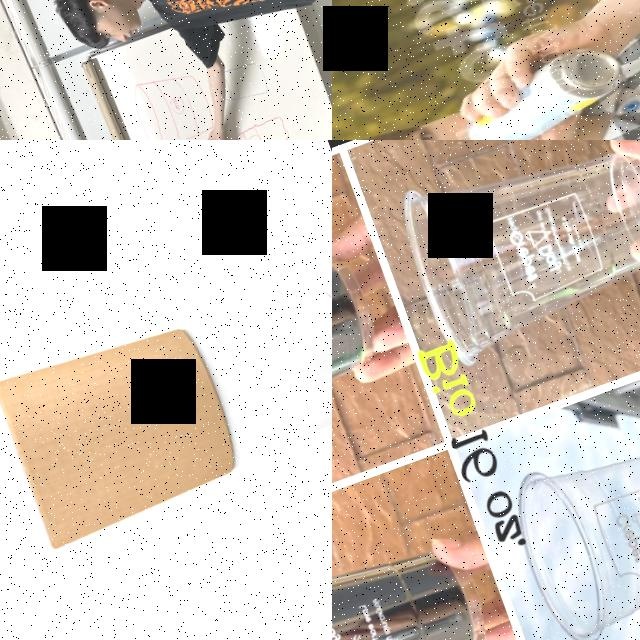can: (452, 35, 636, 140)
cup: (0, 238, 332, 635), (390, 140, 640, 370), (496, 389, 640, 640), (332, 502, 509, 640), (332, 211, 399, 475)
